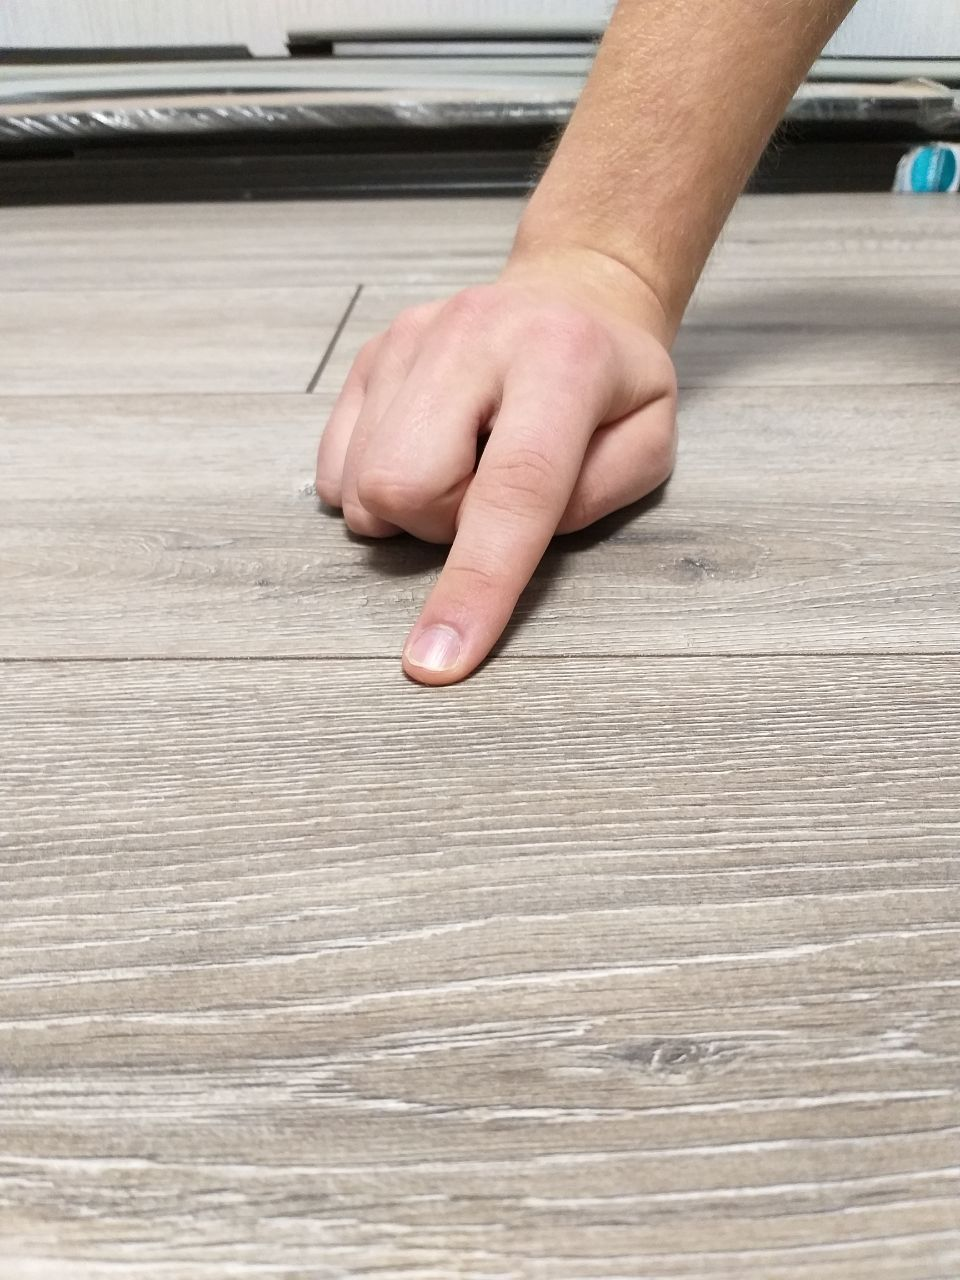finger: (406, 600, 485, 682)
